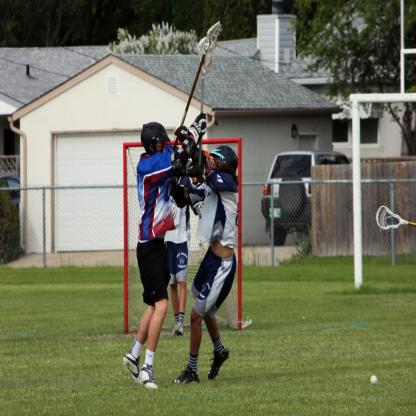Helmet: (138, 118, 167, 156), (205, 148, 235, 183)
